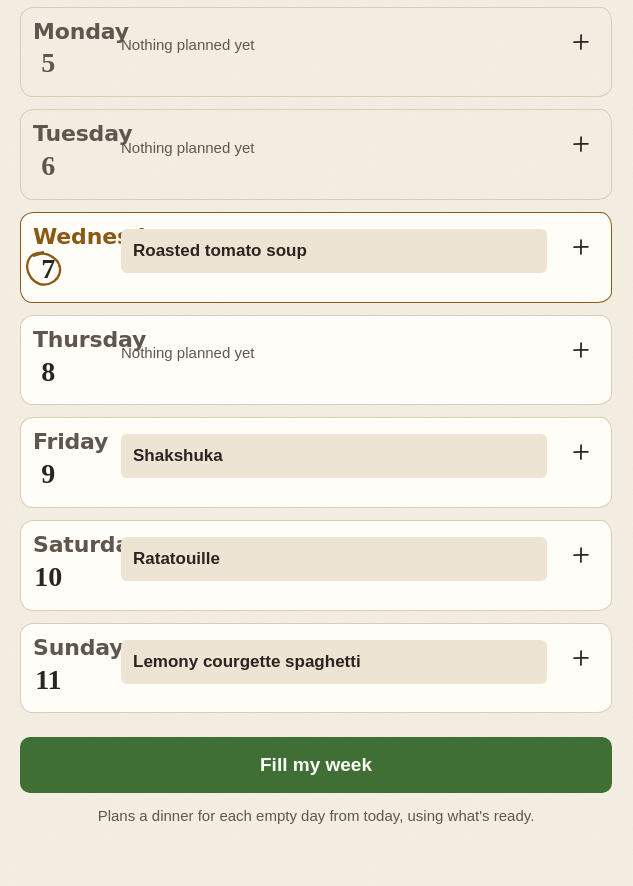
it: WeekScreen › hides a meal whose recipe has gone, and counts its day as empty
(page scrolled)
Expected: the text "Nothing planned yet" next to "Thursday" is shown, top-left (121, 344), bottom-right (254, 361)
Click the button "Fill my week": (316, 765) top-left (20, 737), bottom-right (612, 793)
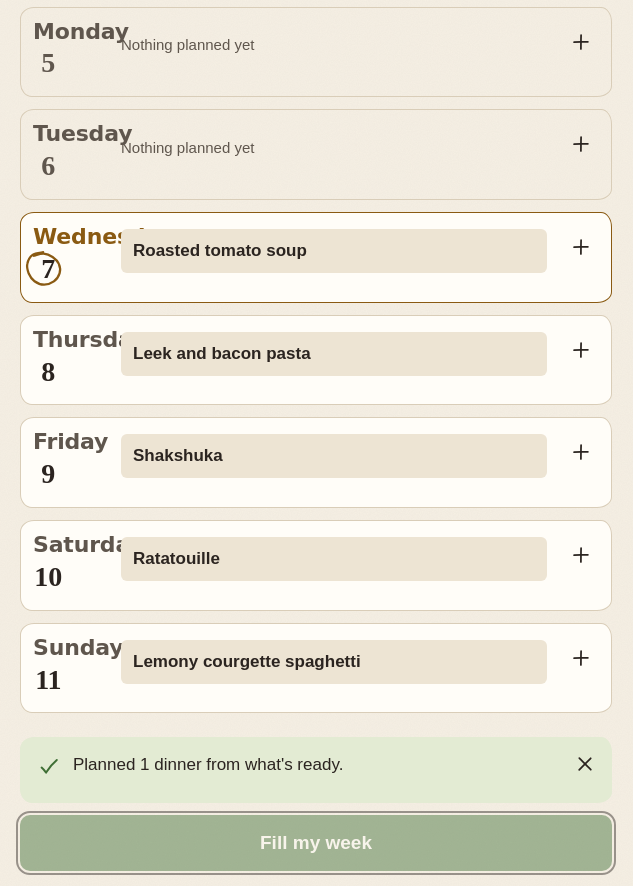
Result: the number of buttons "Leek and bacon pasta" is 2 at top-left (121, 332), bottom-right (547, 376); top-left (559, 328), bottom-right (603, 372)
